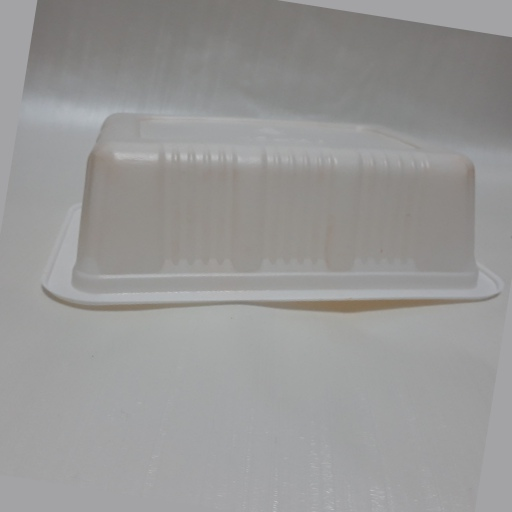Plastic_4: (39, 111, 504, 318)
